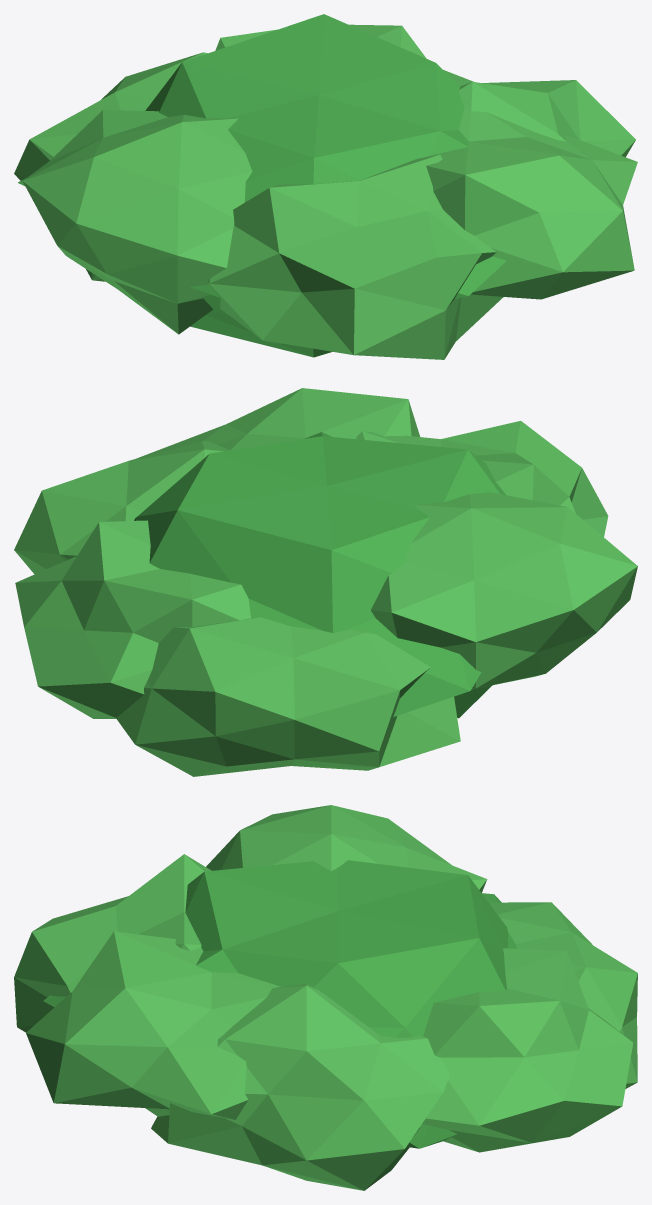
The model's file is mint.glb.
The picture shows the model from 3 angles, top to bottom: view 1: azimuth 30°, elevation 25°; view 2: azimuth 150°, elevation 25°; view 3: azimuth 270°, elevation 25°; orthographic projection. The views are drawn at different scales.
Parts seen in each view (by area): view 1: mint; view 2: mint; view 3: mint.
Boxes of the visible parts, <box> form: mint: <box>14,14,637,359</box>; mint: <box>14,388,637,776</box>; mint: <box>14,805,637,1190</box>.
Bounding box in the file's own units: 0.7401 × 0.2712 × 0.7033.
